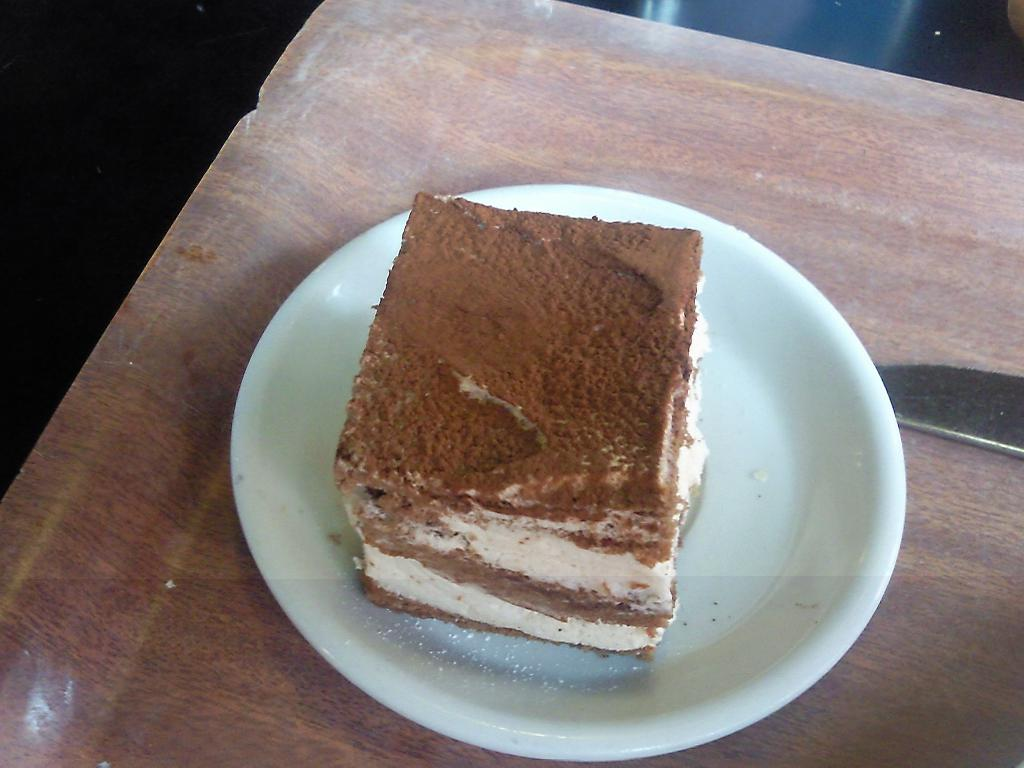cake: (332, 192, 703, 657)
